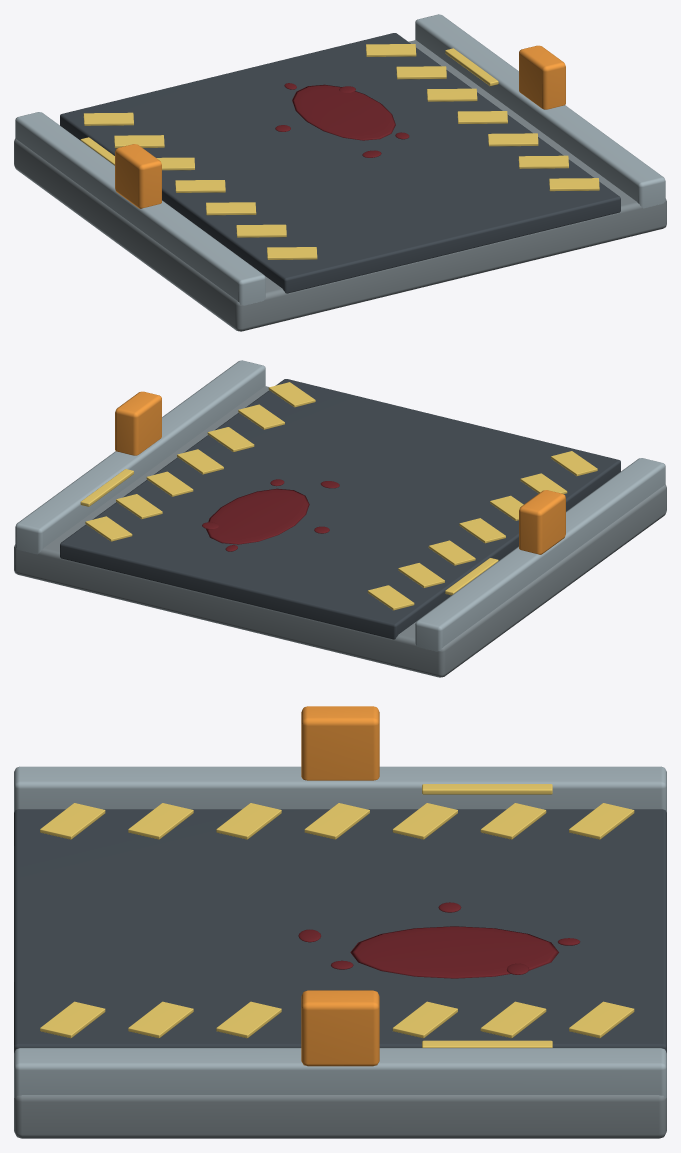
The model's file is 16_road_quarantine.glb.
3 renders of one model, top to bottom at view 1: azimuth 30°, elevation 25°; view 2: azimuth 150°, elevation 25°; view 3: azimuth 270°, elevation 25°, orthographic. The views are drawn at different scales.
Parts seen in each view (by area): view 1: Road surface, Foundation, Curb, Lane light, Warning beacon, Blood smear; view 2: Road surface, Foundation, Curb, Lane light, Warning beacon, Blood smear; view 3: Road surface, Curb, Foundation, Lane light, Warning beacon, Blood smear.
Part boxes in pixels (bbox=[...]): Road surface: bbox=[60, 33, 620, 293]; Foundation: bbox=[14, 40, 666, 331]; Curb: bbox=[15, 14, 665, 305]; Lane light: bbox=[80, 44, 599, 259]; Warning beacon: bbox=[115, 45, 565, 208]; Blood smear: bbox=[275, 83, 409, 157]; Road surface: bbox=[60, 379, 620, 639]; Foundation: bbox=[14, 386, 666, 677]; Curb: bbox=[15, 360, 665, 651]; Lane light: bbox=[80, 382, 597, 610]; Warning beacon: bbox=[115, 391, 565, 554]; Blood smear: bbox=[202, 479, 339, 551]; Road surface: bbox=[14, 809, 666, 1052]; Curb: bbox=[14, 766, 666, 1098]; Foundation: bbox=[14, 1095, 666, 1138]; Lane light: bbox=[40, 784, 634, 1047]; Warning beacon: bbox=[301, 706, 379, 1066]; Blood smear: bbox=[298, 902, 580, 978].
Size of the model in its own units: 2.2 by 0.46 by 2.
